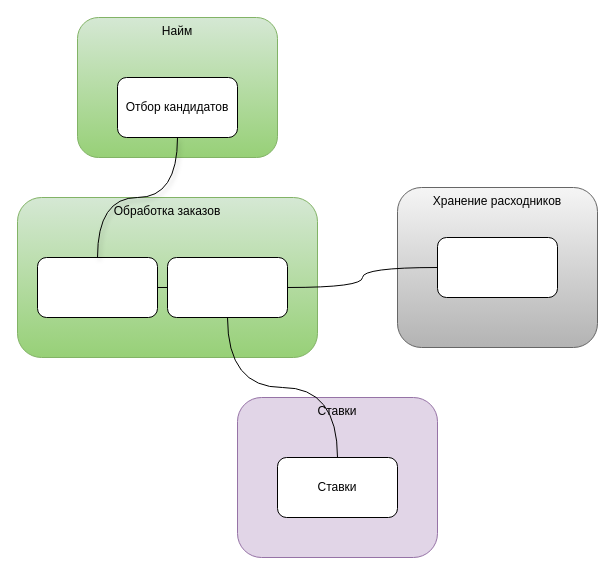
The diagram is 615 pixels wide and 575 high, and some of its shapes have lost their labels. The centre of each missing label's shape, as x and y in pixels:
"Заказы" belongs at pixel 227 287.
"Подбор исполнителей" belongs at pixel 97 287.
"Склад" belongs at pixel 497 267.
